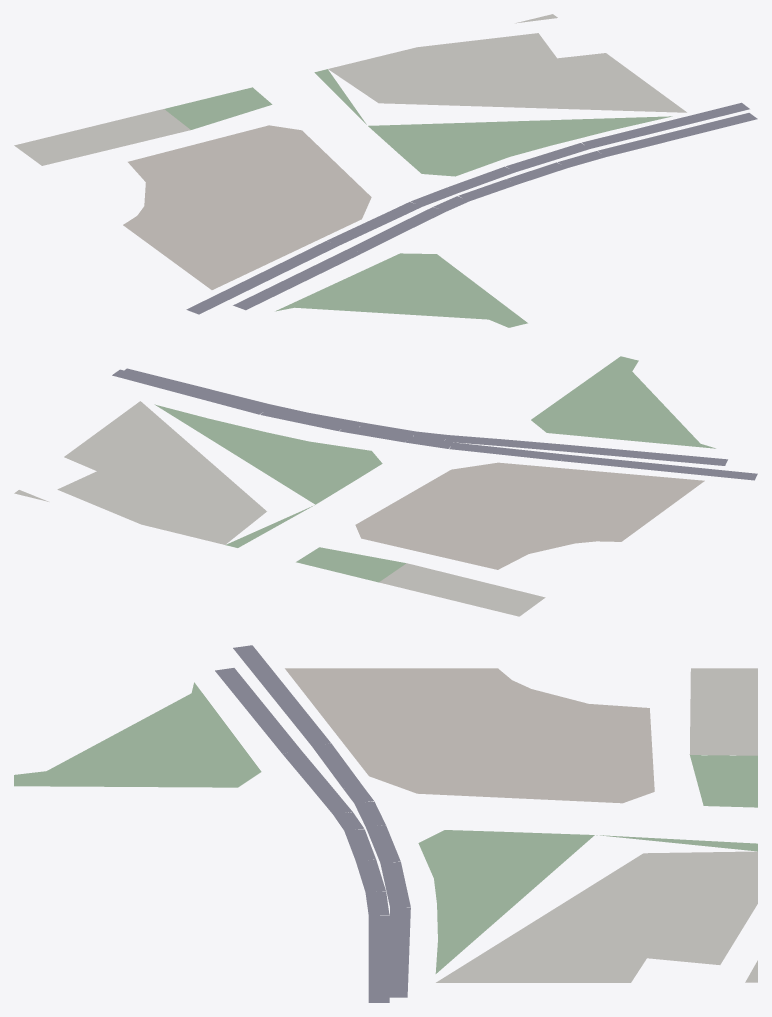
The model's file is 102_104_mid.glb.
3 renders of one model, top to bottom at view 1: azimuth 30°, elevation 25°; view 2: azimuth 150°, elevation 25°; view 3: azimuth 270°, elevation 25°, orthographic. The views are drawn at different scales.
Size of the model in its own units: 576 by 7.4 by 500.
